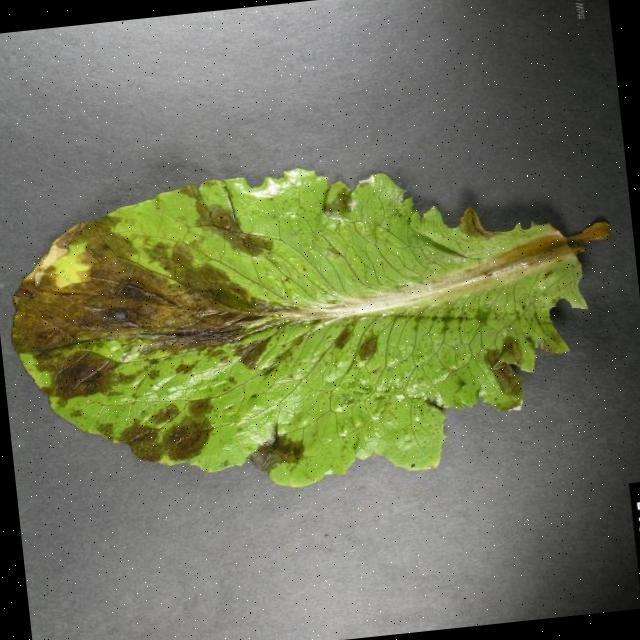Septoria_Blight: (8, 157, 582, 471)
